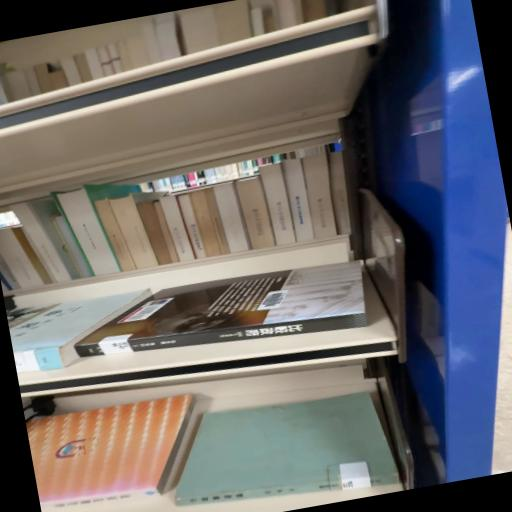flat: (76, 261, 369, 357), (175, 392, 400, 507), (27, 394, 198, 512)
